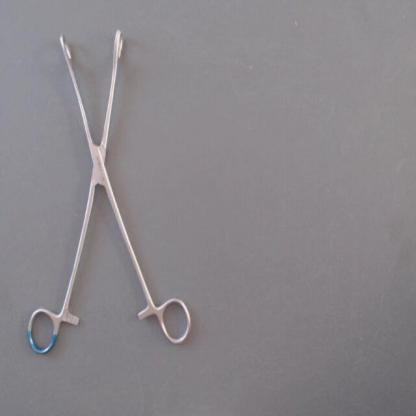Sponge Forceps: (17, 20, 197, 365)
